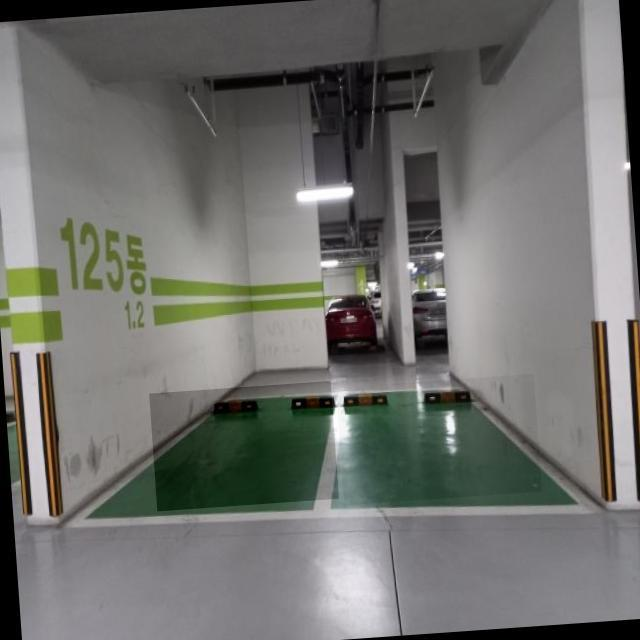empty: (336, 373, 542, 505), (148, 380, 338, 510)
